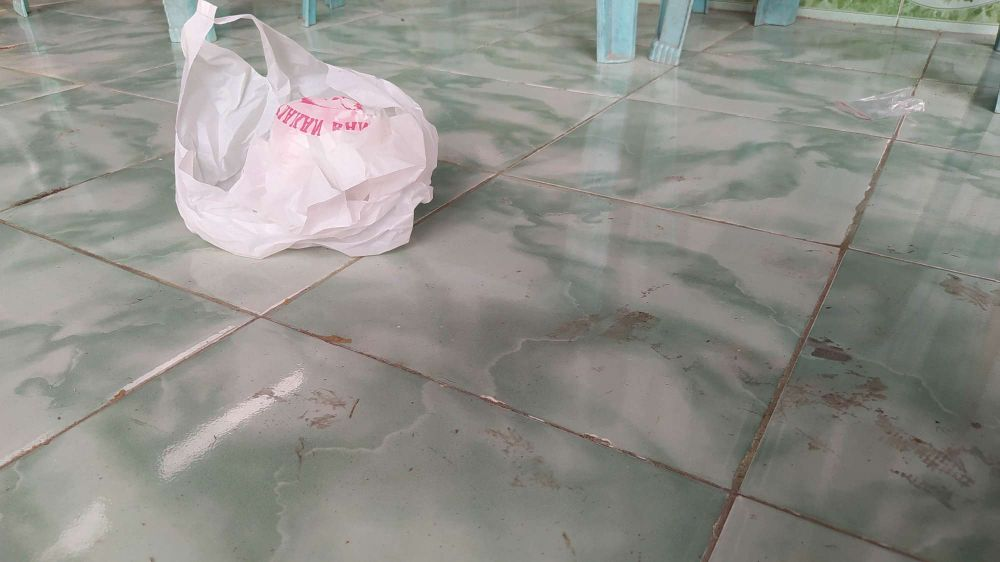plastik: (158, 9, 454, 261)
